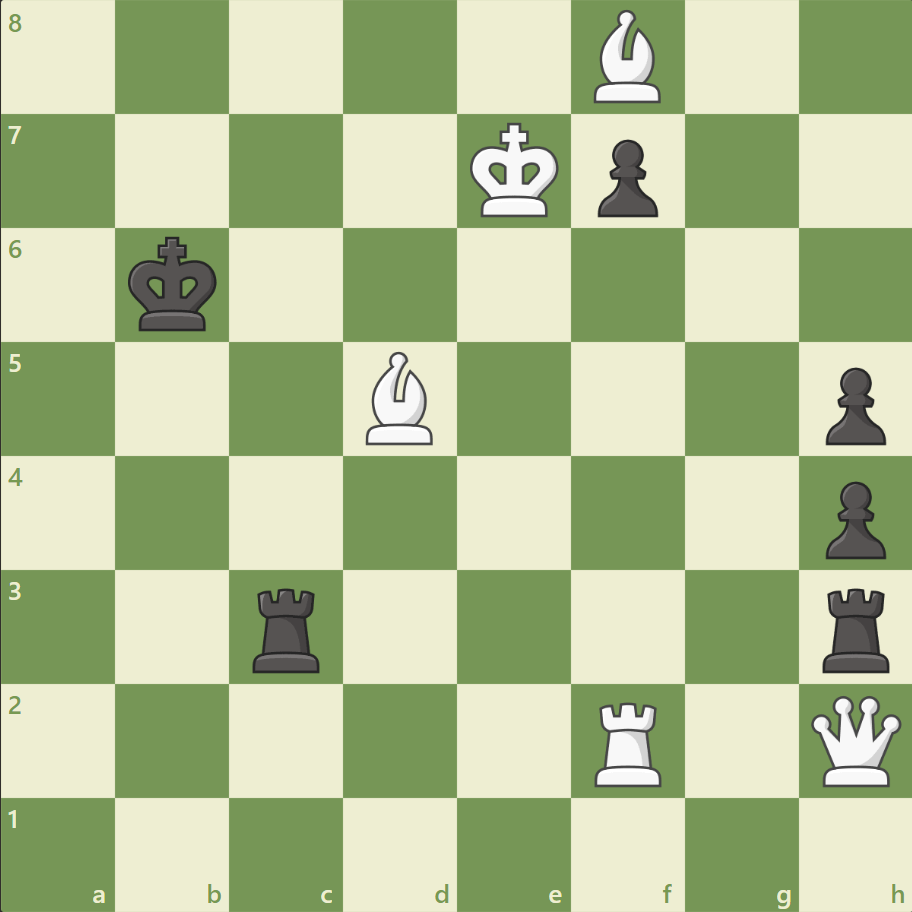B: (585, 6, 669, 109), (358, 347, 442, 449)
K: (465, 117, 565, 225)
Q: (805, 690, 904, 789)
R: (587, 693, 670, 790)
k: (124, 231, 224, 339)
p: (588, 132, 662, 223), (815, 359, 889, 450), (815, 473, 889, 564)
r: (246, 579, 329, 676), (814, 579, 897, 676)
